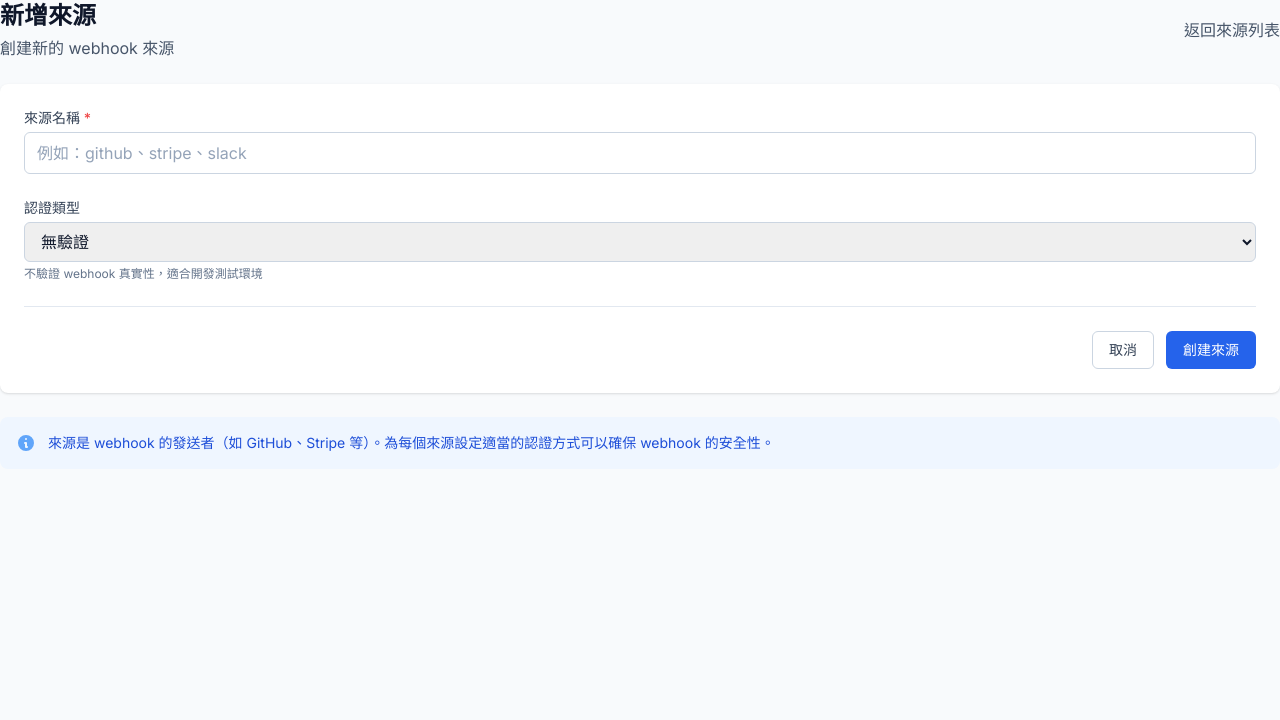
Test: SourceForm › shows auth config fields when signature auth is selected
This screenshot has width=1280, height=720.
Step 1. Select "簽名驗證" in the dropdown labelled "認證類型" → (640, 242), box [24,222,1256,262]
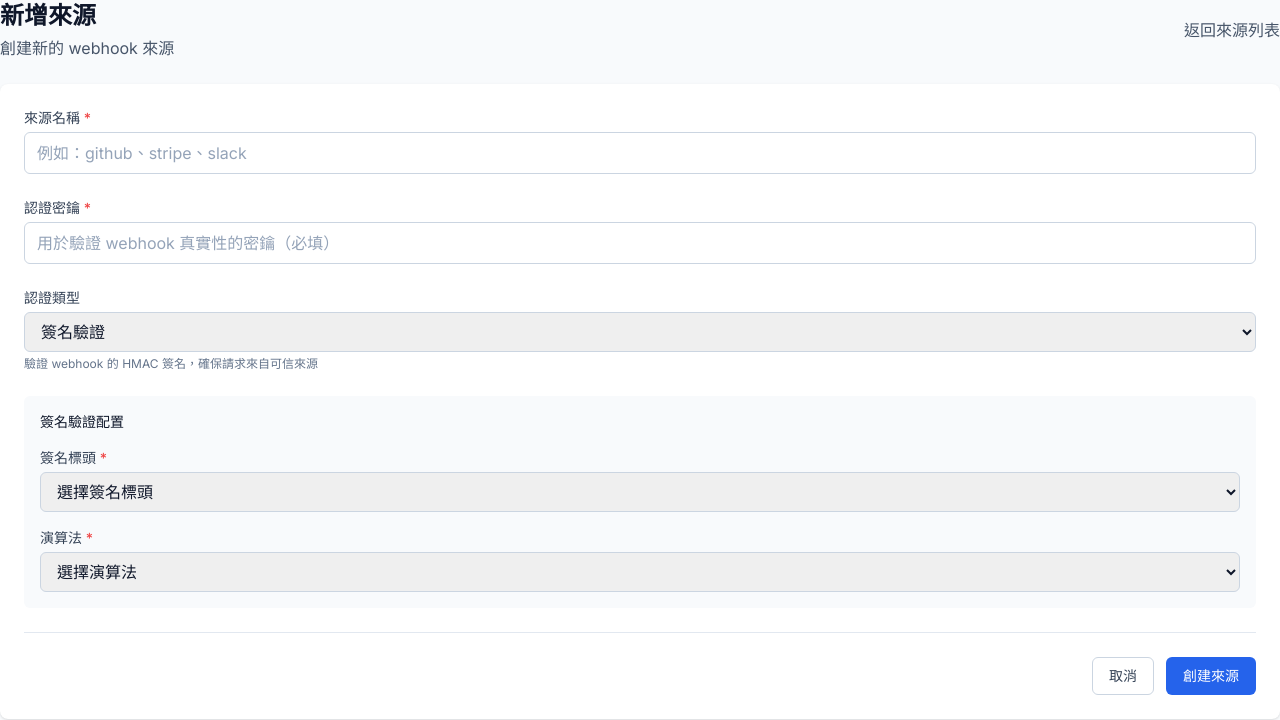
Now the dropdown labelled "簽名標頭 *" is shown, box [40,472,1240,512]
Now the dropdown labelled "演算法 *" is shown, box [40,552,1240,592]
